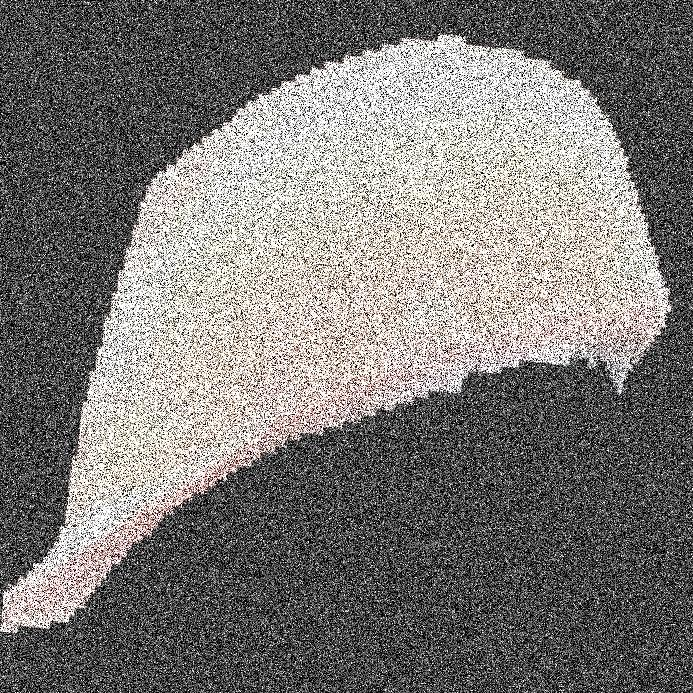Capacete: (134, 0, 485, 692)
